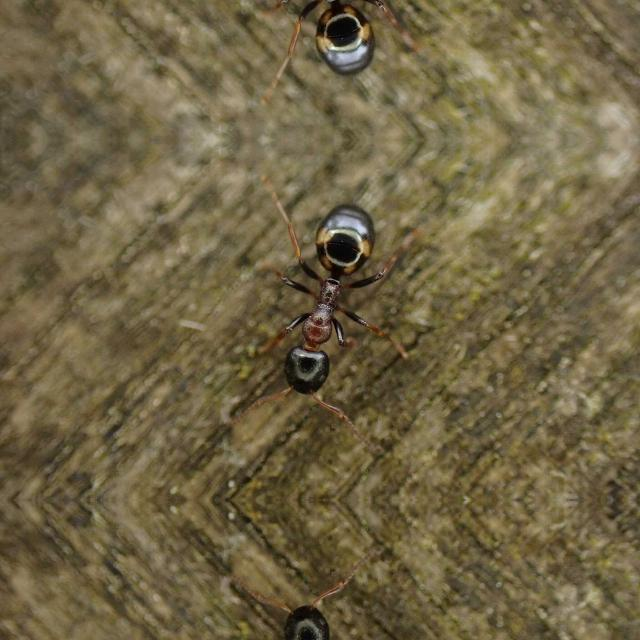Dolichoderus: (224, 189, 421, 413), (222, 0, 419, 90), (222, 586, 420, 640)
